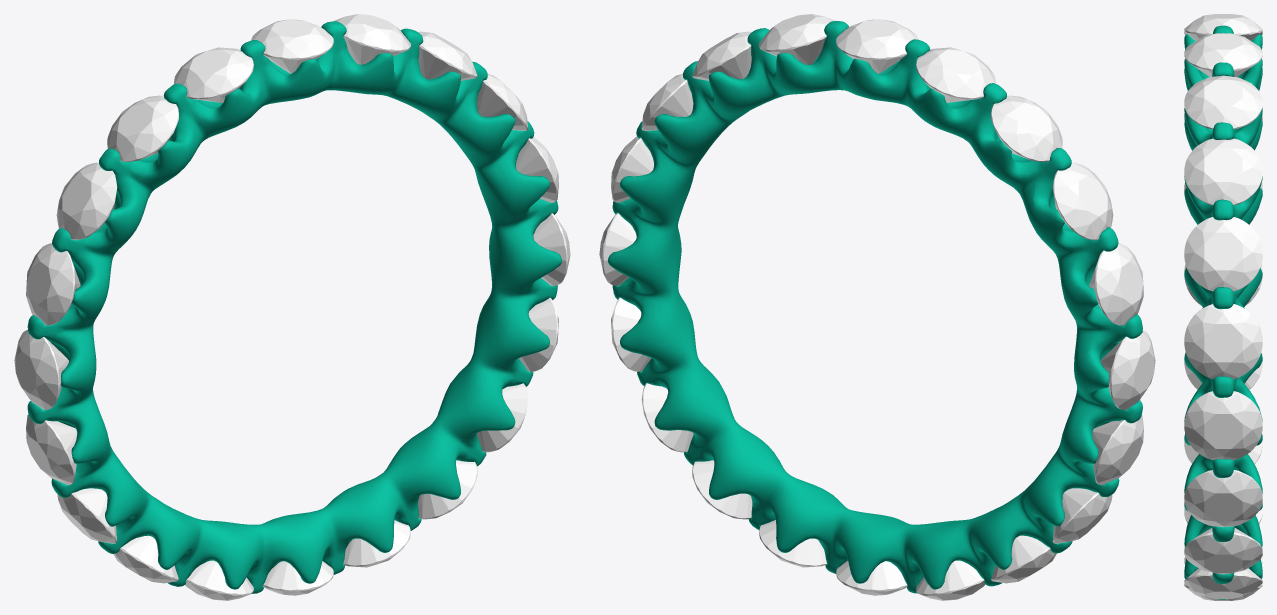
The model's file is BE2DR200E_RENDER.glb.
The picture shows the model from 3 angles, left to right: view 1: azimuth 30°, elevation 25°; view 2: azimuth 150°, elevation 25°; view 3: azimuth 270°, elevation 25°; orthographic projection. The views are drawn at different scales.
Visible parts, largest first — view 1: Metal03, Diamond_Round_Gem_BD.016, Diamond_Round_Gem_BD.017, Diamond_Round_Gem_BD.015, Diamond_Round_Gem_BD.018, Diamond_Round_Gem_BD.014, Diamond_Round_Gem_BD.019, Diamond_Round_Gem_BD.013, Diamond_Round_Gem_BD, Diamond_Round_Gem_BD.012, Diamond_Round_Gem_BD.001, Diamond_Round_Gem_BD.011 (+9 smaller); view 2: Metal03, Diamond_Round_Gem_BD.016, Diamond_Round_Gem_BD.017, Diamond_Round_Gem_BD.015, Diamond_Round_Gem_BD.018, Diamond_Round_Gem_BD.014, Diamond_Round_Gem_BD.019, Diamond_Round_Gem_BD.013, Diamond_Round_Gem_BD, Diamond_Round_Gem_BD.012, Diamond_Round_Gem_BD.001, Diamond_Round_Gem_BD.011 (+9 smaller); view 3: Metal03, Diamond_Round_Gem_BD.003, Diamond_Round_Gem_BD.002, Diamond_Round_Gem_BD.004, Diamond_Round_Gem_BD.001, Diamond_Round_Gem_BD.005, Diamond_Round_Gem_BD, Diamond_Round_Gem_BD.006, Diamond_Round_Gem_BD.019, Diamond_Round_Gem_BD.007, Diamond_Round_Gem_BD.018, Diamond_Round_Gem_BD.012 (+4 smaller).
Boxes of the visible parts, bbox=[...] form: Metal03: bbox=[27, 21, 561, 593]; Diamond_Round_Gem_BD.016: bbox=[56, 162, 117, 240]; Diamond_Round_Gem_BD.017: bbox=[107, 95, 178, 161]; Diamond_Round_Gem_BD.015: bbox=[26, 243, 80, 325]; Diamond_Round_Gem_BD.018: bbox=[174, 47, 253, 102]; Diamond_Round_Gem_BD.014: bbox=[14, 329, 68, 409]; Diamond_Round_Gem_BD.019: bbox=[251, 19, 333, 73]; Diamond_Round_Gem_BD.013: bbox=[26, 414, 77, 485]; Diamond_Round_Gem_BD: bbox=[333, 14, 410, 64]; Diamond_Round_Gem_BD.012: bbox=[57, 488, 117, 543]; Diamond_Round_Gem_BD.001: bbox=[418, 31, 477, 80]; Diamond_Round_Gem_BD.011: bbox=[113, 535, 178, 583]; Metal03: bbox=[608, 21, 1142, 593]; Diamond_Round_Gem_BD.016: bbox=[1052, 162, 1113, 240]; Diamond_Round_Gem_BD.017: bbox=[991, 95, 1062, 161]; Diamond_Round_Gem_BD.015: bbox=[1089, 243, 1143, 325]; Diamond_Round_Gem_BD.018: bbox=[916, 47, 995, 102]; Diamond_Round_Gem_BD.014: bbox=[1100, 330, 1155, 409]; Diamond_Round_Gem_BD.019: bbox=[836, 19, 918, 73]; Diamond_Round_Gem_BD.013: bbox=[1092, 415, 1143, 485]; Diamond_Round_Gem_BD: bbox=[759, 14, 835, 64]; Diamond_Round_Gem_BD.012: bbox=[1052, 488, 1112, 543]; Diamond_Round_Gem_BD.001: bbox=[692, 31, 751, 80]; Diamond_Round_Gem_BD.011: bbox=[991, 535, 1056, 583]; Metal03: bbox=[1184, 25, 1262, 599]; Diamond_Round_Gem_BD.003: bbox=[1184, 304, 1262, 379]; Diamond_Round_Gem_BD.002: bbox=[1184, 217, 1262, 291]; Diamond_Round_Gem_BD.004: bbox=[1184, 391, 1262, 460]; Diamond_Round_Gem_BD.001: bbox=[1184, 138, 1262, 205]; Diamond_Round_Gem_BD.005: bbox=[1184, 470, 1262, 527]; Diamond_Round_Gem_BD: bbox=[1184, 75, 1262, 129]; Diamond_Round_Gem_BD.006: bbox=[1184, 528, 1262, 574]; Diamond_Round_Gem_BD.019: bbox=[1184, 33, 1262, 77]; Diamond_Round_Gem_BD.007: bbox=[1184, 568, 1262, 598]; Diamond_Round_Gem_BD.018: bbox=[1184, 14, 1262, 40]; Diamond_Round_Gem_BD.012: bbox=[1184, 351, 1262, 389].
Bounding box in the file's own units: 21.66 × 21.66 × 2.9.
